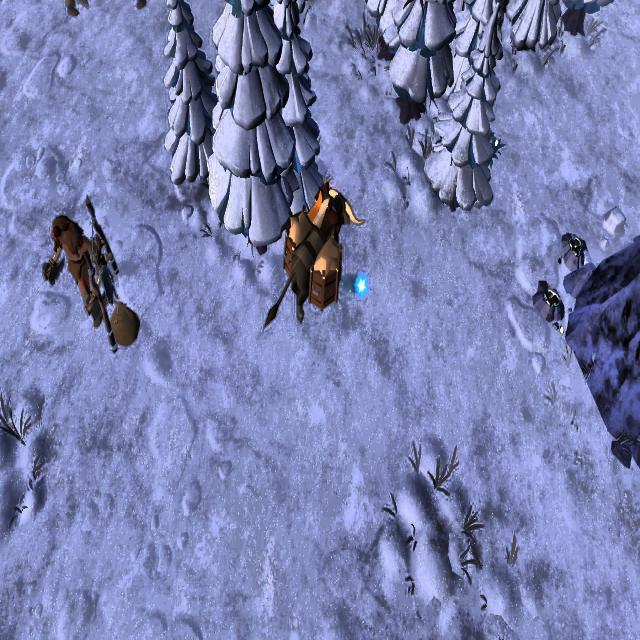enemy_factionKeeper: (42, 209, 104, 319)
